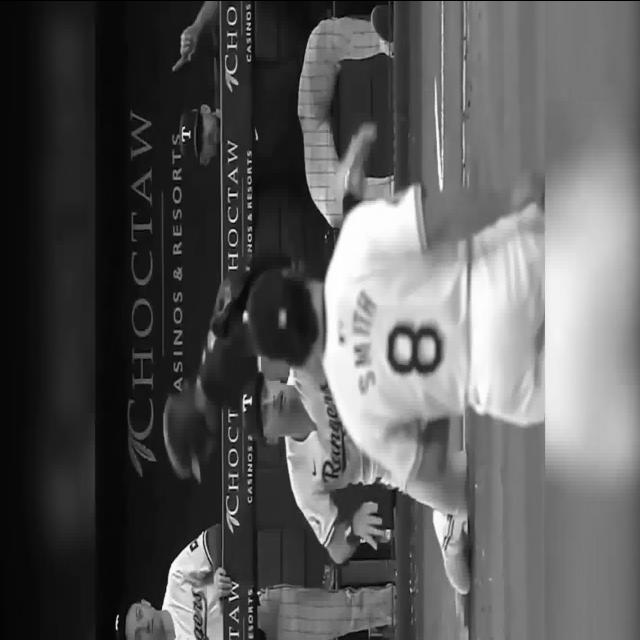base: (455, 591, 469, 639)
shoe: (432, 509, 471, 593)
